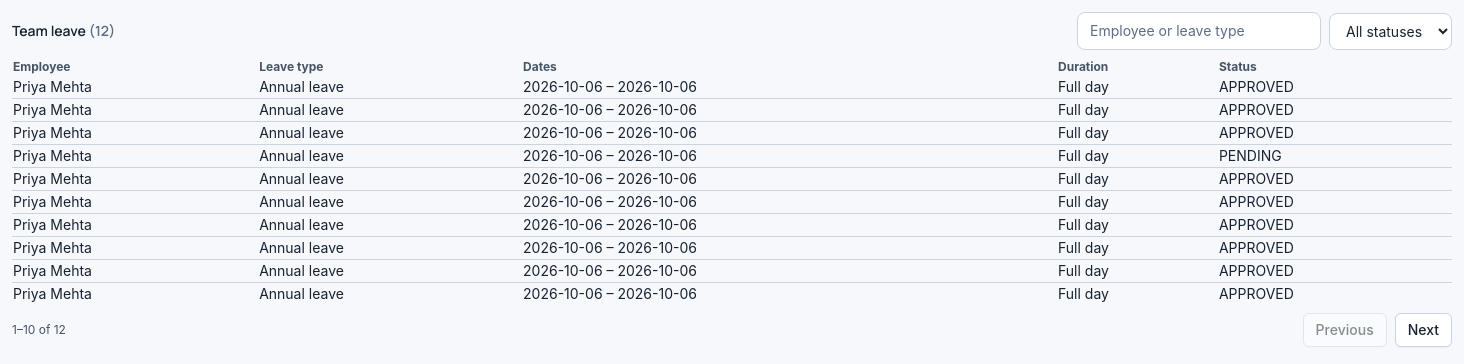
it: shows ten requests and makes the remaining requests accessible with pagination
This screenshot has width=1464, height=364.
Click the button "Next": click(1423, 330) [1395,313,1452,347]
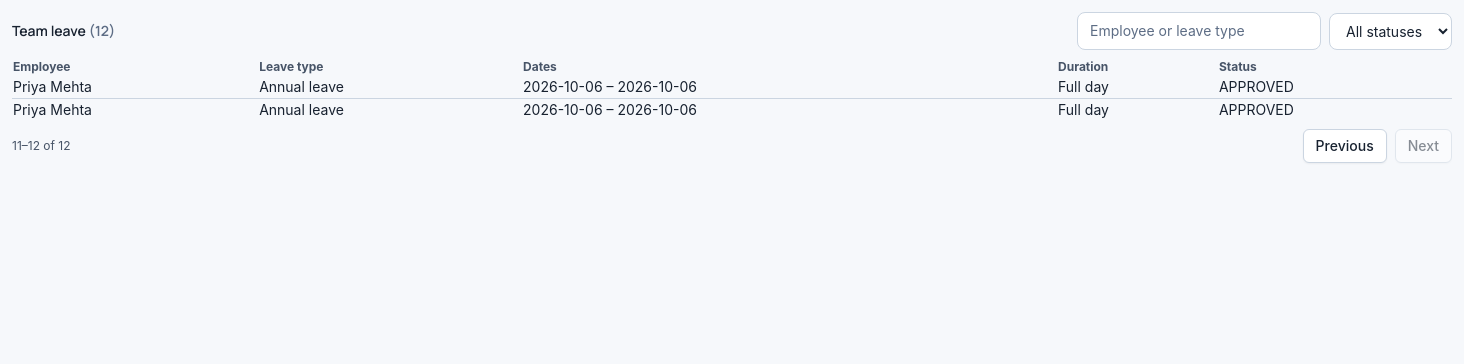
Check: the number of rows is 3, box [12,58,1452,76]; [12,76,1452,98]; [12,98,1452,121]
Check: the text "11–12 of 12" is shown, box [12,138,70,154]
